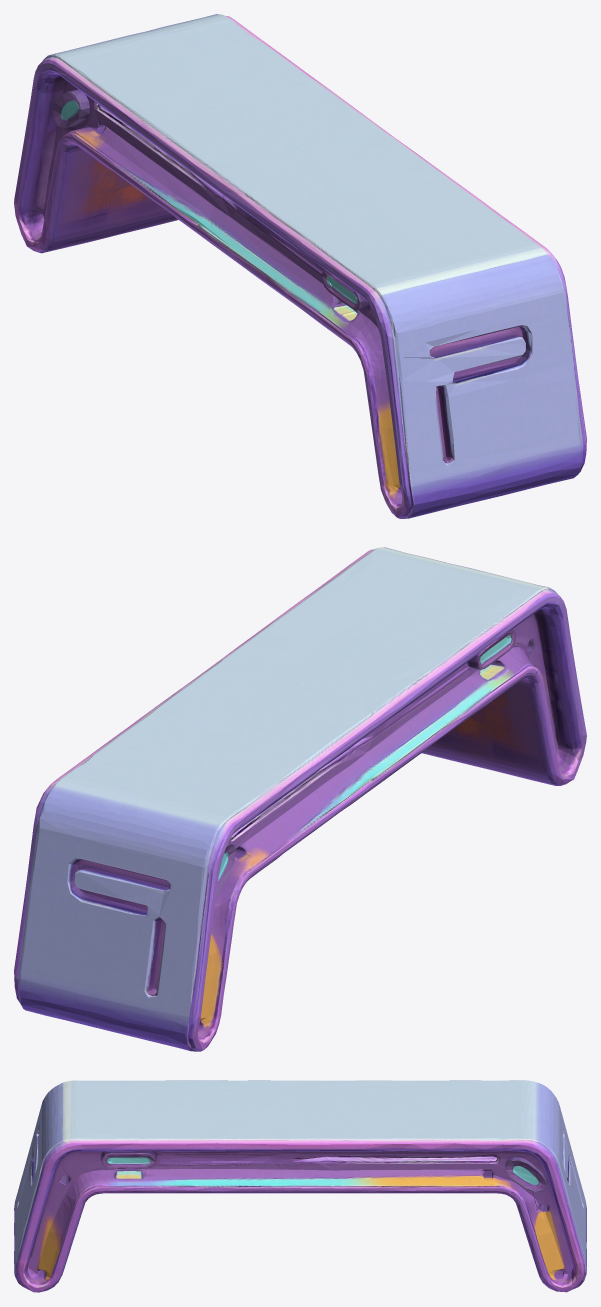
Rendered from knd_bench_neon_01.glb.
3 renders of one model, top to bottom at view 1: azimuth 30°, elevation 25°; view 2: azimuth 150°, elevation 25°; view 3: azimuth 270°, elevation 25°, orthographic. The views are drawn at different scales.
Visible parts, largest first — view 1: tripo_node_d5534e4f-ae13-4b22-aa1b-568dcf93b53d; view 2: tripo_node_d5534e4f-ae13-4b22-aa1b-568dcf93b53d; view 3: tripo_node_d5534e4f-ae13-4b22-aa1b-568dcf93b53d.
Boxes of the visible parts, bbox=[...] form: tripo_node_d5534e4f-ae13-4b22-aa1b-568dcf93b53d: bbox=[14, 14, 586, 518]; tripo_node_d5534e4f-ae13-4b22-aa1b-568dcf93b53d: bbox=[14, 547, 586, 1051]; tripo_node_d5534e4f-ae13-4b22-aa1b-568dcf93b53d: bbox=[14, 1080, 586, 1292].
Bounding box in the file's own units: 0.2633 × 0.2897 × 0.9789.
Materials: 1 (1 with a texture image).
